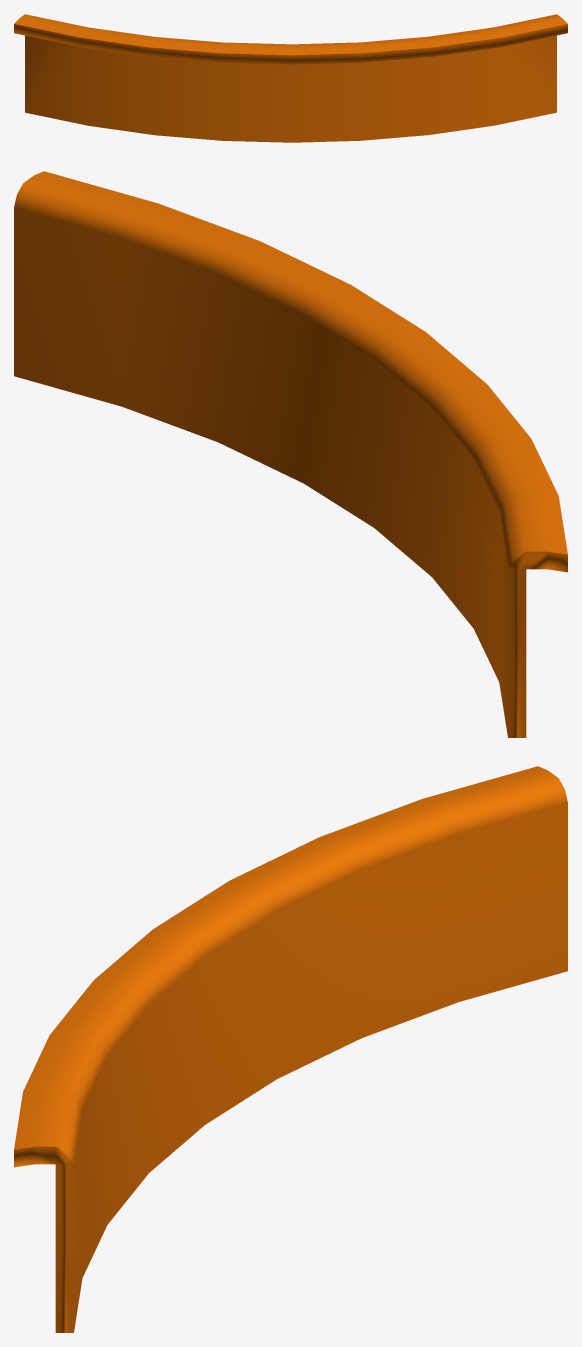
Rendered from Plastic_Pipe_C_Left.fbx.
3 views of the same model, one above another, from view 1: azimuth 30°, elevation 25°; view 2: azimuth 150°, elevation 25°; view 3: azimuth 270°, elevation 25° (orthographic). The views are drawn at different scales.
Visible parts, largest first — view 1: Plastic_Pipe_C_Left; view 2: Plastic_Pipe_C_Left; view 3: Plastic_Pipe_C_Left.
Boxes of the visible parts, box(x1,y1,x2,y2) form: Plastic_Pipe_C_Left: box(14, 14, 567, 142); Plastic_Pipe_C_Left: box(14, 171, 567, 737); Plastic_Pipe_C_Left: box(14, 766, 567, 1332).
Size of the model in its own units: 10.9 by 2.47 by 6.65.
